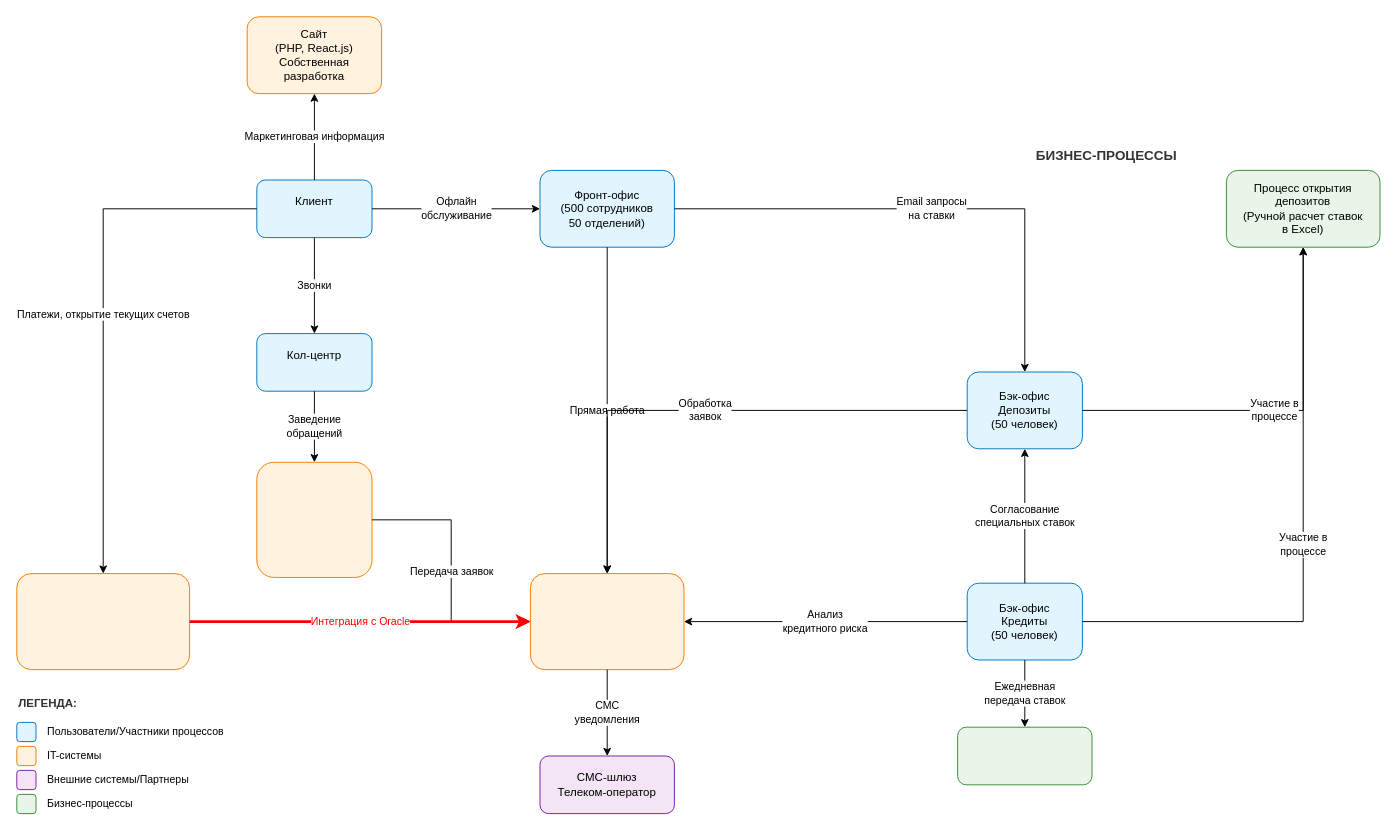
Some shapes in this 1397 by 830 pixel diagram are drawn without their labels. Each missing label, with the centre of its shape:
АБС (Delphi, Oracle) Полностью внутренняя разработка: the point at 606,621
Интернет-банк (ASP.NET MVC, MS SQL) Подрядчик + команда (10+10 человек): the point at 103,621
Расчет ставок (Excel-файлы по email): the point at 1024,755
Система кол-центра (React.js, Java Spring, PostgreSQL) Микросервисы: the point at 314,519
